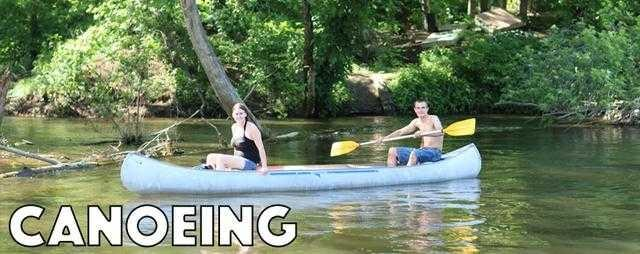kayak: (121, 142, 481, 204)
